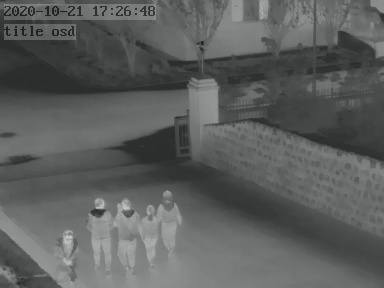person: (88, 197, 113, 276), (55, 229, 84, 288), (117, 197, 137, 271), (159, 191, 180, 252), (140, 204, 157, 266)
